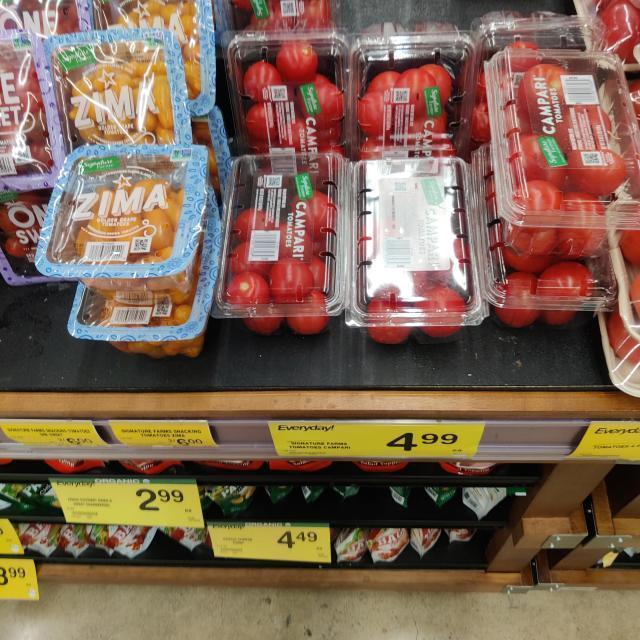Tomatoes: (487, 43, 640, 258), (343, 157, 490, 345), (44, 148, 212, 300), (219, 146, 346, 335), (30, 31, 202, 169), (220, 24, 350, 164), (349, 27, 472, 163)
